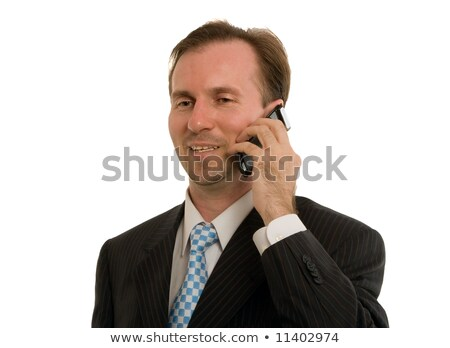phone: (239, 104, 295, 181)
talk: (172, 81, 304, 208)
